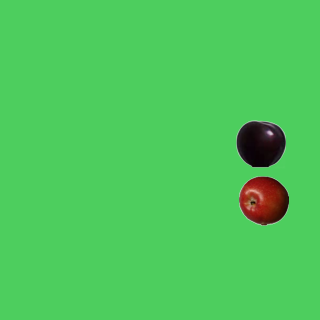Apple Braeburn: (238, 175, 288, 225)
Cherry Wax Black: (235, 118, 285, 168)
